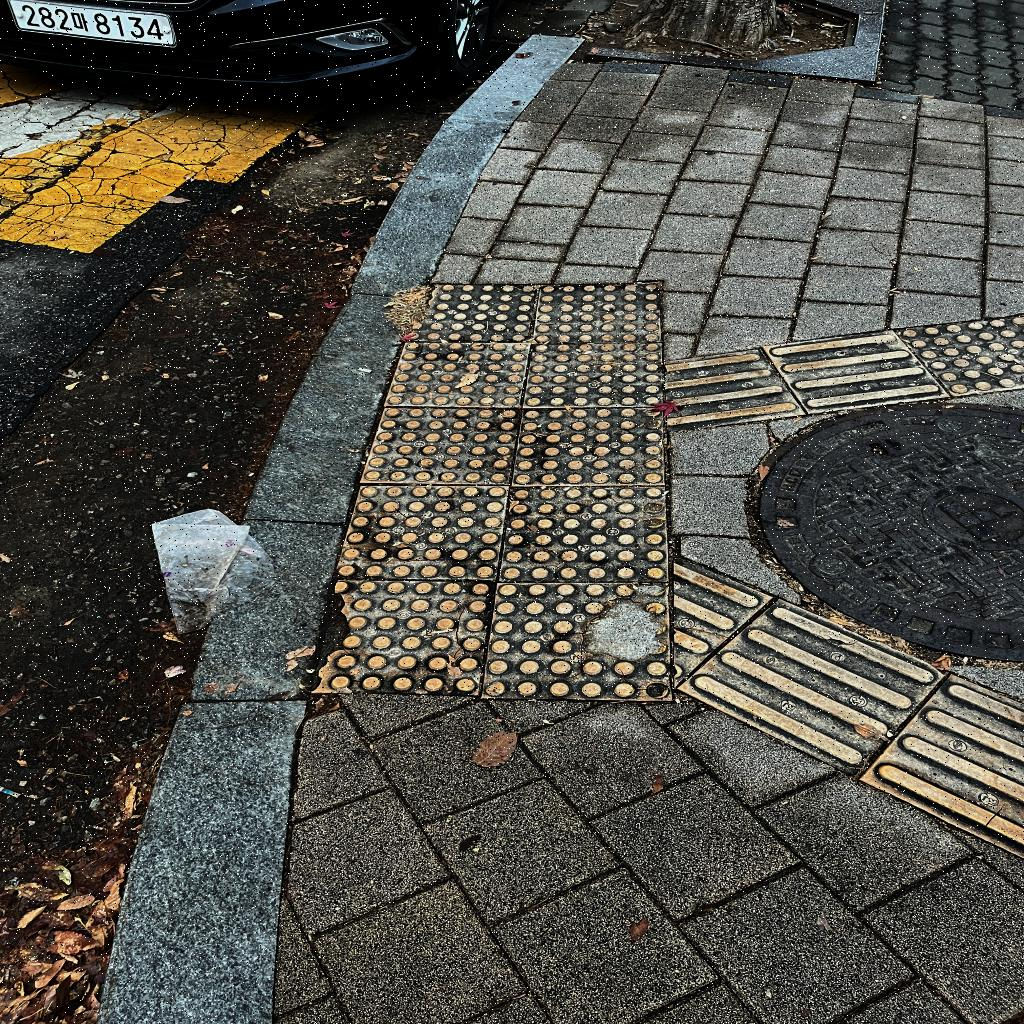Stop block broken: (483, 583, 672, 699), (311, 579, 495, 697)
Stop block normal: (361, 407, 521, 485)
